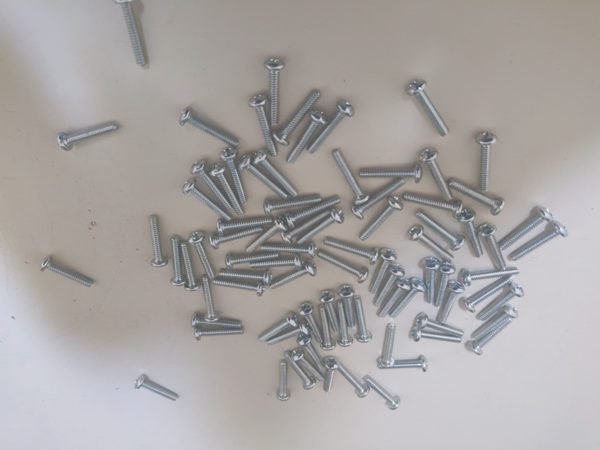longscrew: (306, 101, 352, 155), (409, 78, 452, 135), (421, 145, 464, 202), (277, 91, 320, 145), (254, 151, 303, 197), (238, 155, 287, 200), (180, 109, 239, 146), (287, 112, 325, 167), (418, 208, 464, 253), (181, 181, 231, 222), (514, 227, 567, 265), (248, 92, 277, 159), (353, 180, 405, 217), (117, 0, 147, 64), (192, 162, 231, 211), (262, 61, 290, 128), (501, 210, 549, 249), (466, 275, 515, 312), (475, 284, 524, 321), (469, 308, 518, 345), (406, 186, 462, 218), (470, 321, 518, 358), (450, 180, 506, 211), (42, 260, 95, 292), (334, 149, 366, 202), (408, 226, 455, 262), (469, 131, 497, 191), (314, 255, 368, 285), (325, 234, 379, 264), (57, 124, 119, 150), (361, 201, 400, 242), (223, 149, 252, 203), (213, 165, 242, 219), (299, 211, 344, 244), (282, 210, 327, 243), (245, 220, 286, 256), (268, 264, 317, 294), (208, 224, 262, 251), (287, 198, 339, 226), (265, 193, 319, 219), (216, 209, 270, 235), (456, 208, 484, 258), (389, 281, 424, 321), (376, 281, 411, 321), (479, 221, 508, 269), (373, 266, 407, 306), (366, 253, 400, 293), (365, 378, 403, 412), (333, 365, 371, 399), (135, 376, 184, 402), (415, 313, 464, 339), (189, 232, 215, 278), (256, 315, 299, 342), (263, 325, 310, 348), (356, 166, 423, 182), (461, 267, 520, 285), (149, 213, 168, 267), (286, 356, 316, 390), (293, 351, 323, 384), (297, 335, 325, 370), (215, 269, 274, 285), (378, 323, 397, 371), (355, 298, 374, 346), (340, 284, 359, 332), (335, 304, 354, 352), (320, 286, 339, 334), (299, 303, 321, 344), (214, 281, 264, 299), (437, 261, 455, 309), (316, 306, 334, 354), (183, 239, 199, 292), (183, 240, 199, 292), (411, 330, 462, 346), (444, 281, 462, 326), (422, 258, 439, 305), (193, 326, 244, 341), (188, 317, 239, 332), (245, 258, 306, 270), (220, 255, 281, 267), (257, 245, 318, 257), (203, 274, 217, 325), (377, 360, 432, 372), (326, 355, 339, 397), (277, 361, 288, 403)
